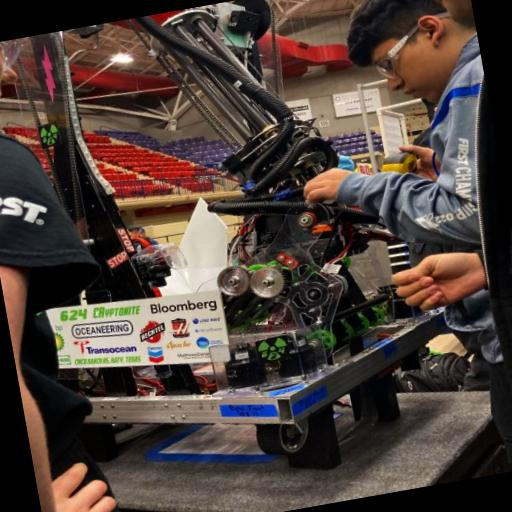robot: (0, 0, 493, 498)
